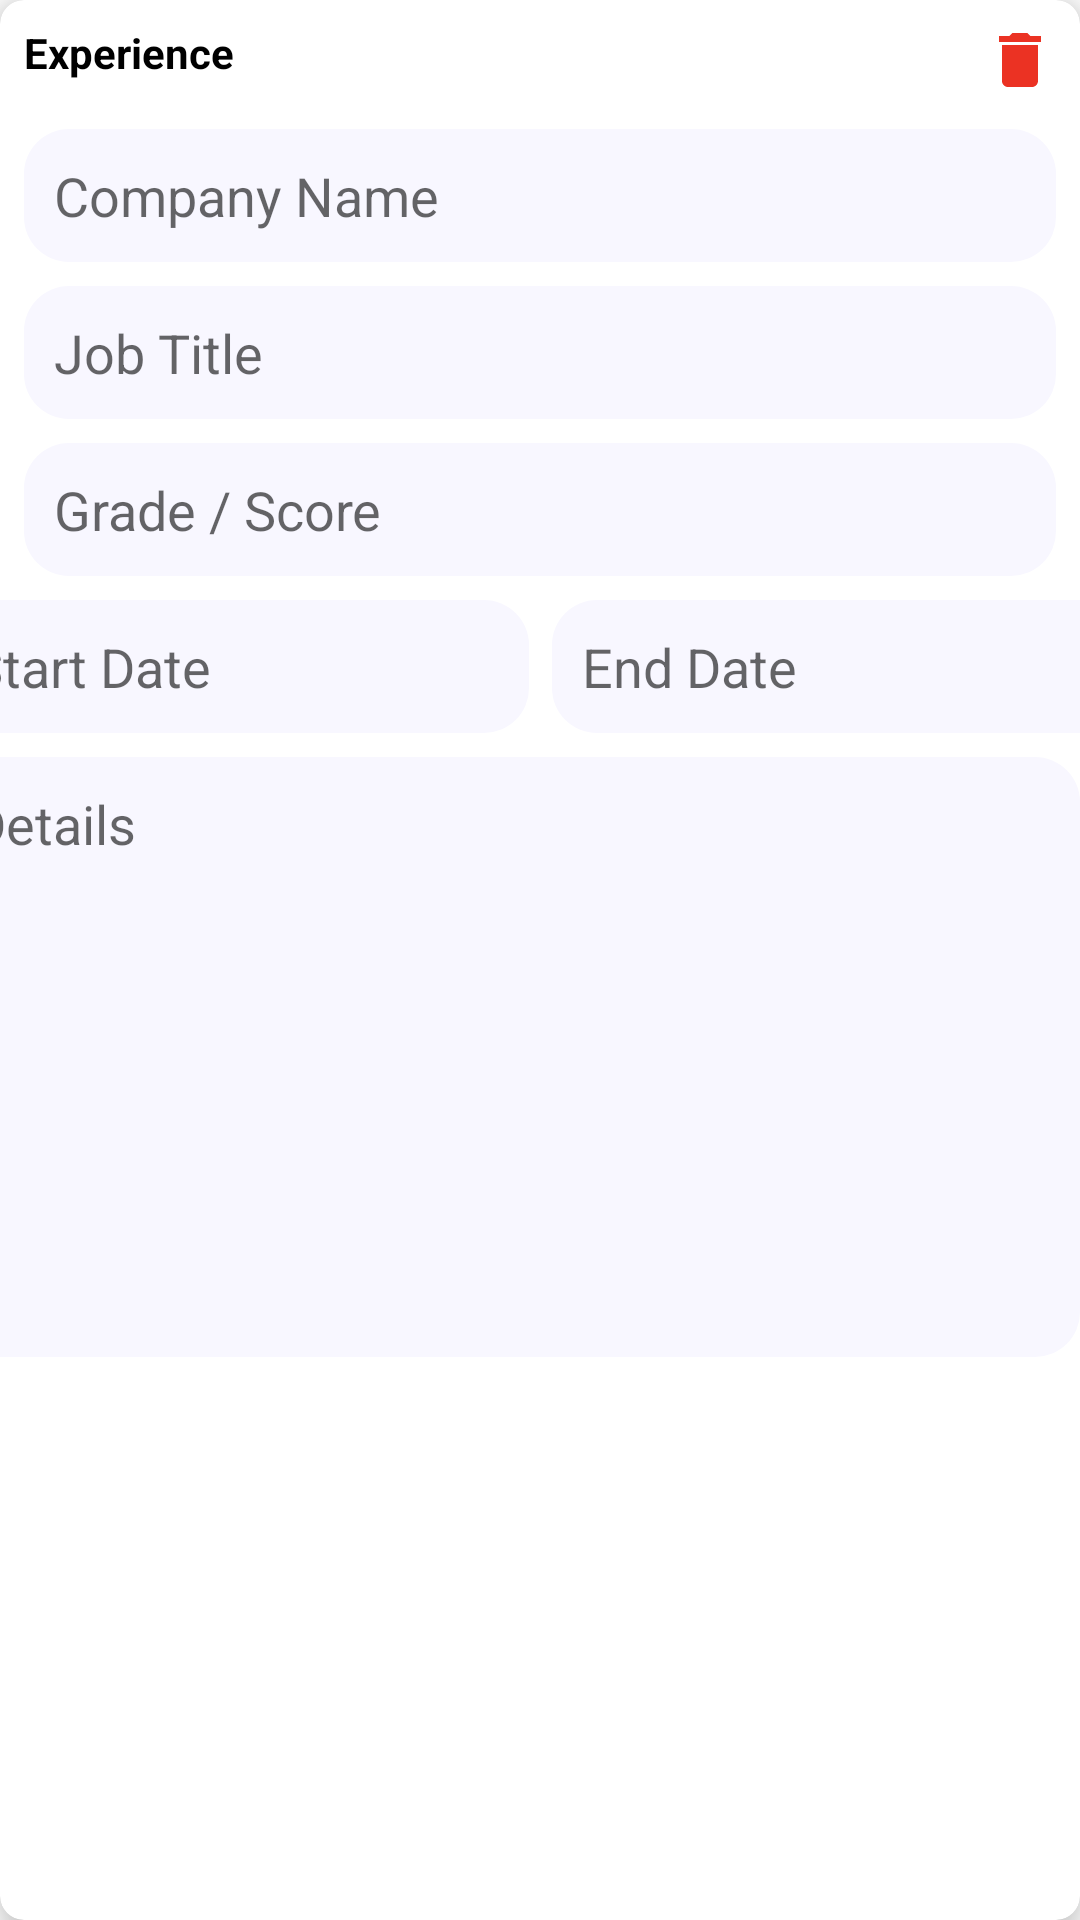

Locate icon controls on the screen. Image size 1080x1920, boxes as (x1, y1, x2, y2).
trash: (999, 33, 1041, 87)
